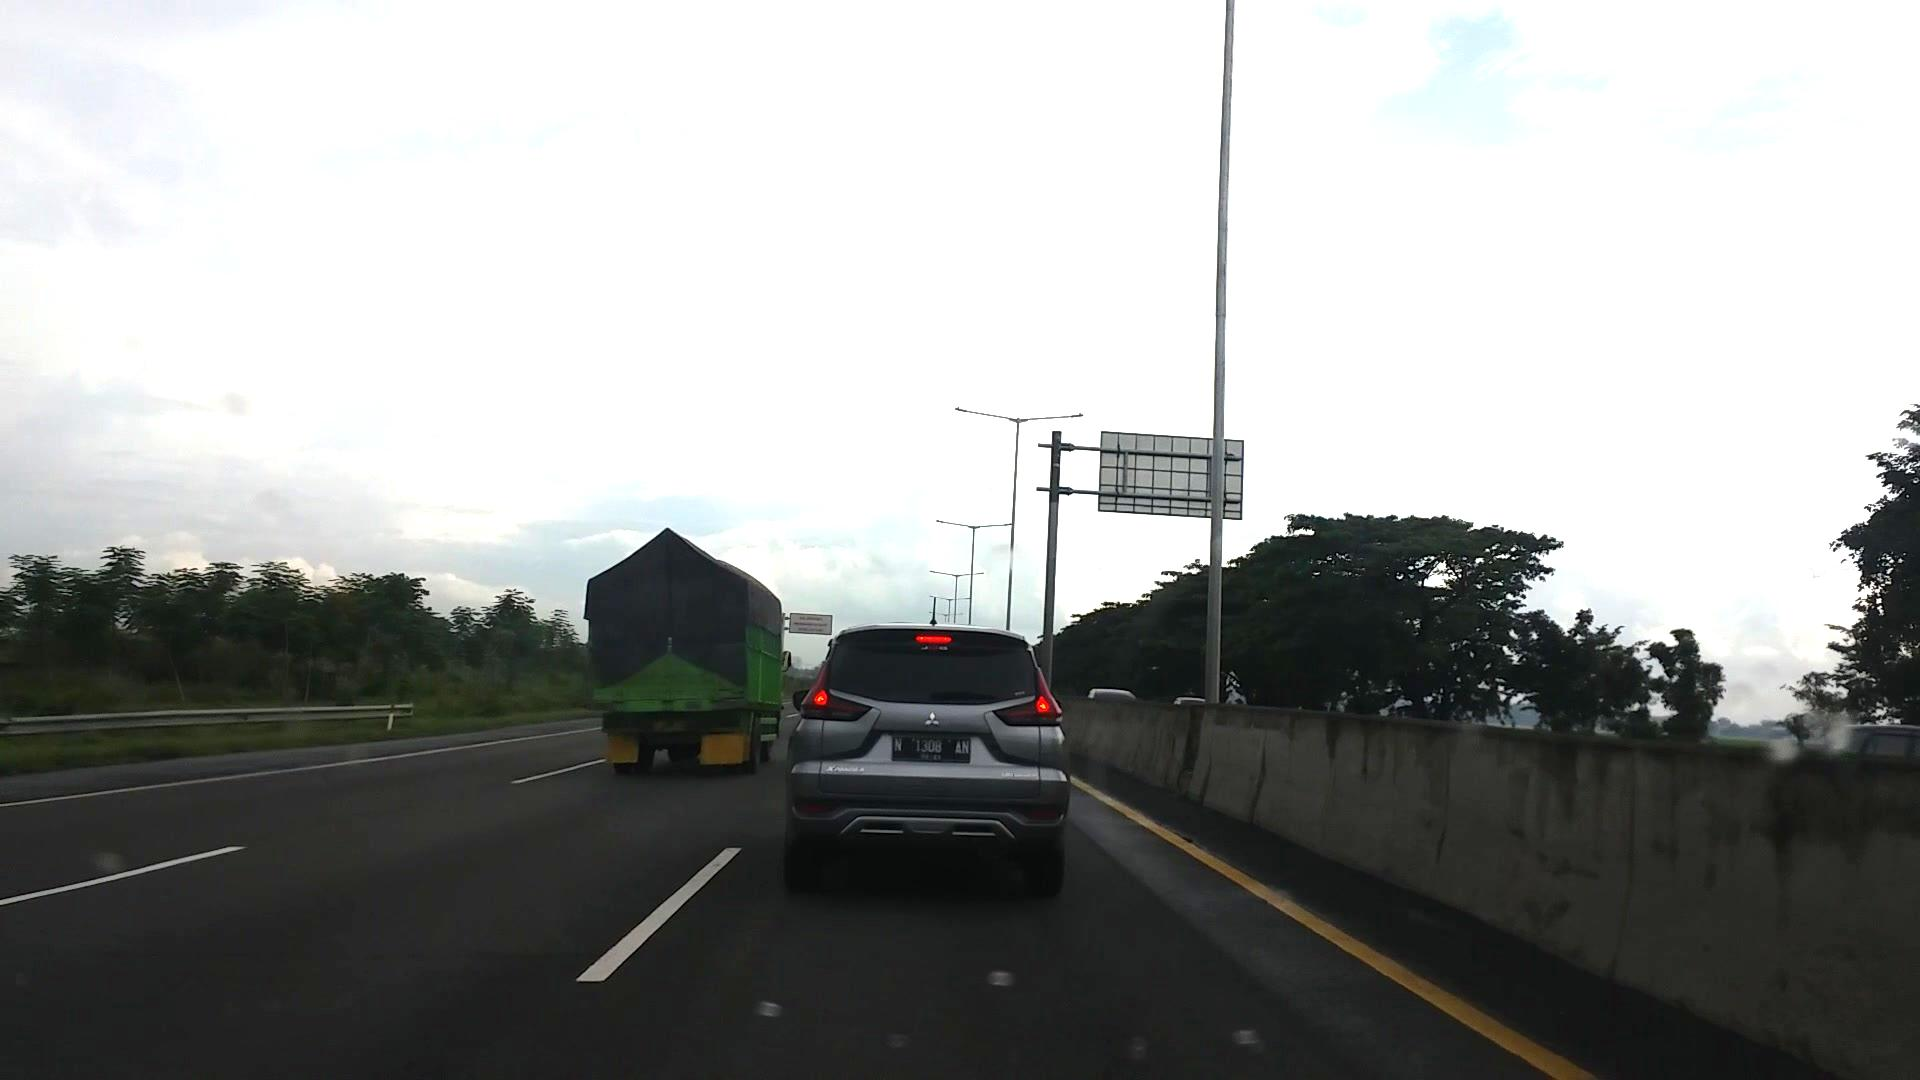plate_positive: (891, 735, 971, 764)
